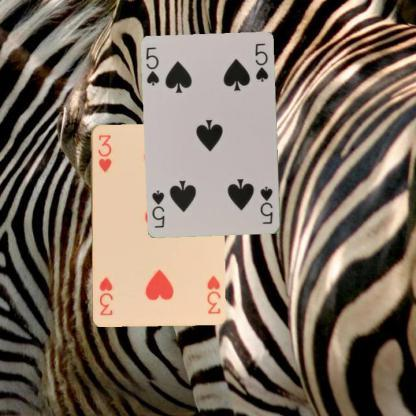3h: (204, 273, 222, 315), (94, 132, 112, 172)
5s: (144, 44, 160, 87), (258, 184, 274, 226)
